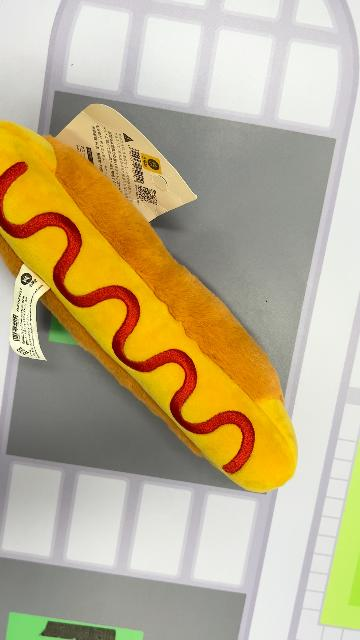hotdog: (1, 120, 299, 494)
